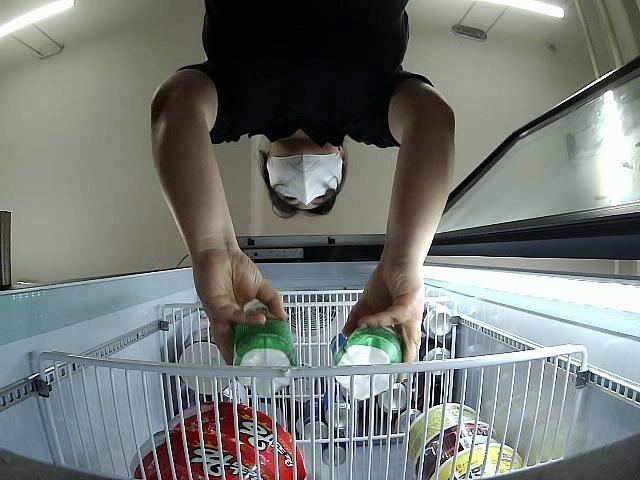18_trevi: (232, 299, 302, 394), (332, 323, 404, 403)
